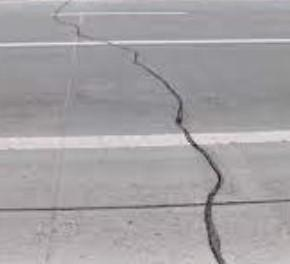crack: (50, 0, 232, 264)
